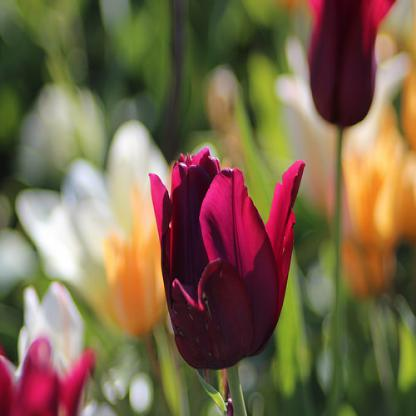TULIP: (148, 71, 342, 391)
